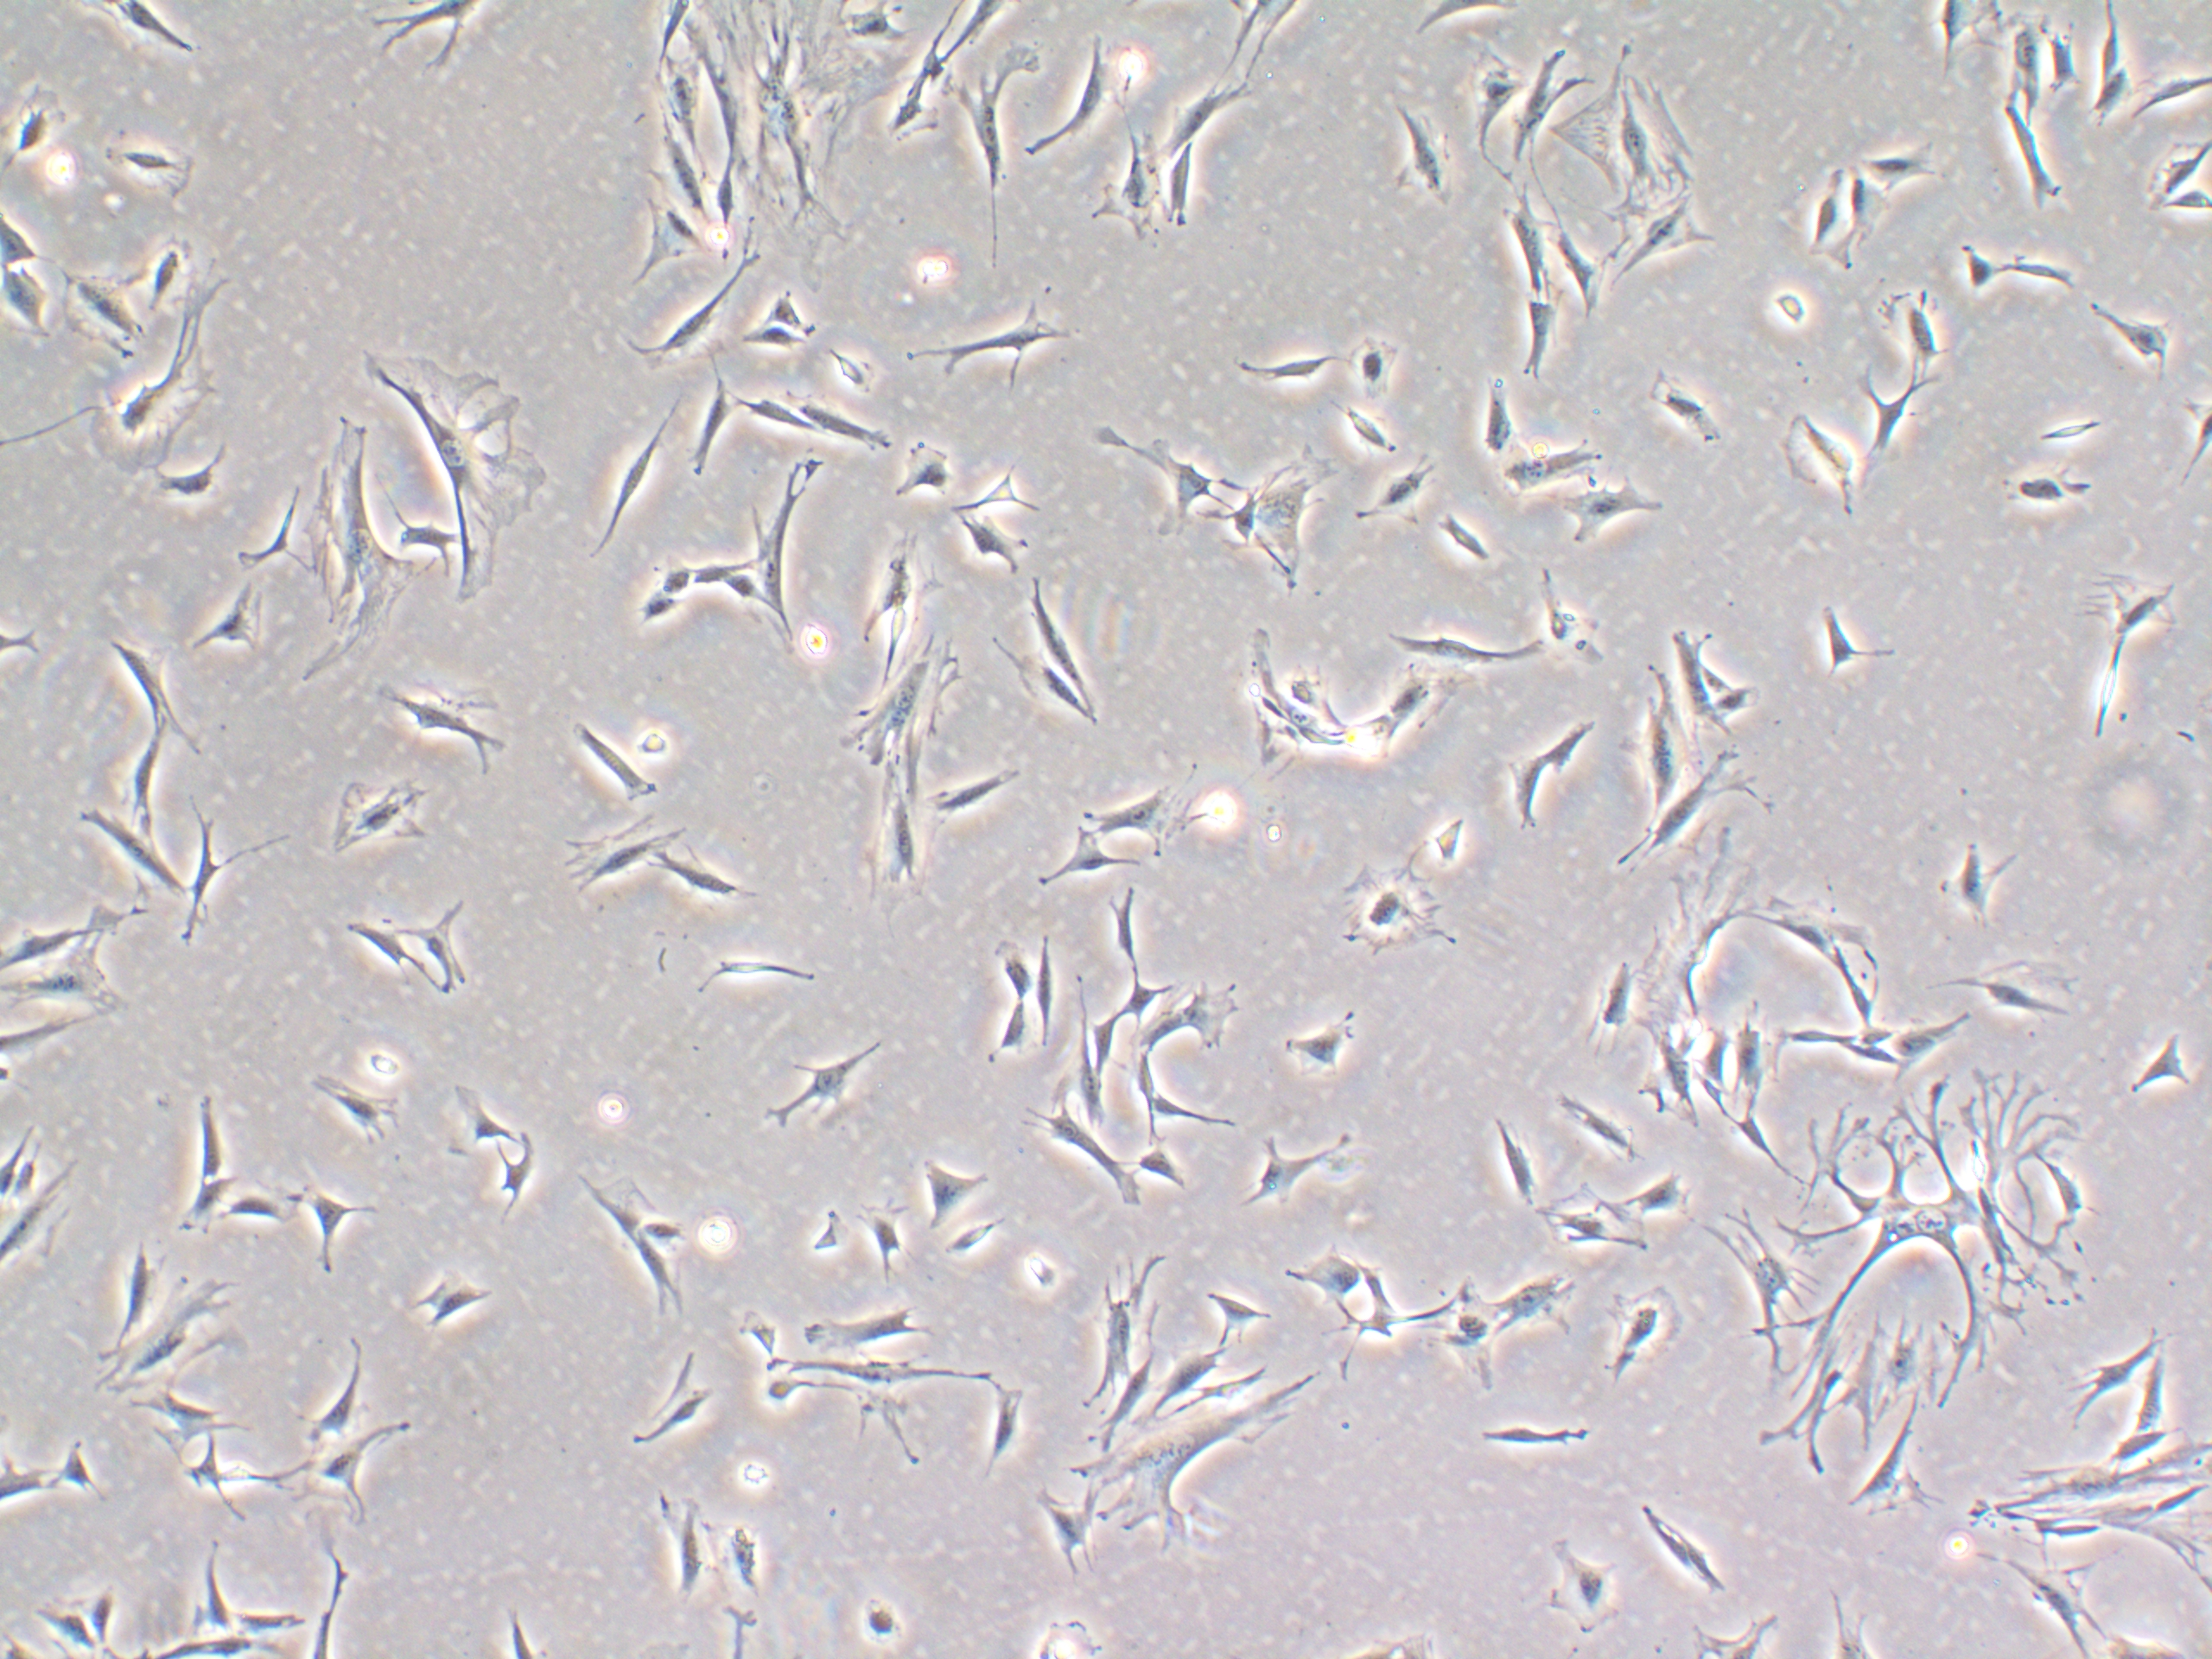Etc: (956, 453, 1052, 511), (944, 1211, 1026, 1270), (1421, 800, 1479, 877), (2033, 411, 2116, 453)
polygonal: (2083, 528, 2177, 758), (578, 1164, 697, 1330), (894, 295, 1082, 396), (631, 239, 768, 373), (754, 1021, 911, 1138), (958, 31, 1035, 270), (1083, 415, 1230, 537), (1921, 943, 2102, 1035), (587, 389, 683, 561), (1021, 23, 1139, 159), (75, 800, 207, 918), (1641, 749, 1775, 866), (1399, 1258, 1510, 1398), (606, 1340, 719, 1474), (380, 667, 521, 772), (1973, 1547, 2118, 1649), (277, 1415, 418, 1518), (1021, 1087, 1136, 1208), (1233, 1121, 1357, 1232), (556, 814, 693, 913), (554, 711, 678, 821), (852, 516, 960, 640), (2054, 1316, 2167, 1429), (742, 462, 813, 641), (1846, 1391, 1937, 1532), (984, 633, 1106, 737), (1632, 1492, 1749, 1596), (1606, 186, 1723, 291), (1527, 1528, 1642, 1633), (1618, 653, 1691, 817), (1089, 118, 1170, 265), (1984, 78, 2069, 218), (179, 805, 254, 964), (1029, 572, 1109, 720), (387, 889, 481, 1012), (1735, 892, 1885, 969), (1503, 28, 1576, 185), (1386, 617, 1554, 685), (1540, 174, 1613, 328), (1770, 411, 1872, 519), (1928, 826, 2038, 927), (1850, 369, 1947, 481), (1153, 59, 1264, 157), (1069, 769, 1200, 850), (131, 437, 260, 519), (1268, 997, 1372, 1096), (101, 622, 190, 737), (2116, 1023, 2203, 1140), (233, 467, 320, 584), (618, 183, 707, 296), (51, 258, 152, 357), (1475, 1406, 1609, 1480), (1444, 350, 1521, 477), (1775, 159, 1865, 265), (1547, 1077, 1655, 1166), (1491, 1263, 1590, 1359), (331, 904, 435, 995), (775, 387, 904, 460), (1641, 366, 1738, 462), (124, 228, 209, 336), (671, 850, 787, 929), (1379, 94, 1454, 216), (791, 1293, 932, 1358), (770, 1347, 996, 1387), (395, 1265, 512, 1342), (1554, 467, 1670, 542), (1534, 1185, 1656, 1256), (1865, 286, 1963, 375), (705, 1511, 791, 1612), (293, 1185, 376, 1286), (1487, 429, 1602, 502), (975, 1364, 1043, 1488), (1665, 626, 1735, 746), (1712, 1103, 1811, 1187), (650, 1488, 709, 1628), (643, 125, 719, 232), (1094, 1340, 1169, 1448), (690, 953, 852, 1002), (188, 575, 275, 666), (1888, 1007, 1996, 1079), (1216, 336, 1350, 394), (2090, 295, 2188, 373), (1578, 946, 1644, 1061), (439, 1084, 542, 1157), (906, 1157, 1001, 1236), (1796, 598, 1892, 676), (848, 1185, 927, 1281), (921, 763, 1026, 835), (695, 366, 754, 491), (1456, 44, 1521, 159), (153, 1406, 261, 1474), (108, 1234, 167, 1358), (2116, 1333, 2186, 1438), (303, 1340, 373, 1445), (482, 1133, 564, 1222), (380, 502, 477, 573), (1017, 918, 1064, 1065), (1278, 1243, 1369, 1317), (1998, 242, 2097, 310), (948, 493, 1031, 573), (1848, 132, 1954, 195), (1144, 1338, 1228, 1417), (1191, 1274, 1278, 1349), (1043, 826, 1141, 892), (1179, 972, 1259, 1053), (75, 1568, 150, 1654), (2118, 59, 2212, 127), (211, 1178, 303, 1246), (1620, 1169, 1714, 1236), (155, 1171, 240, 1243), (1487, 1108, 1547, 1211), (24, 1582, 103, 1659), (1493, 192, 1554, 289), (1512, 289, 1576, 380), (0, 908, 85, 974), (1681, 1018, 1740, 1112), (1651, 1012, 1696, 1134), (124, 725, 181, 821), (738, 385, 824, 448), (183, 1554, 249, 1635), (1327, 385, 1399, 457), (1101, 884, 1155, 978), (982, 993, 1040, 1077), (2071, 0, 2123, 91), (1848, 162, 1900, 251), (1757, 1016, 1865, 1058), (192, 1084, 233, 1190), (1123, 1046, 1184, 1117), (1064, 1037, 1113, 1126), (1541, 709, 1608, 774), (1104, 971, 1176, 1030), (49, 1429, 106, 1502), (1501, 744, 1543, 842), (1170, 143, 1211, 244), (1435, 502, 1496, 568), (2087, 1420, 2195, 1457), (2090, 64, 2142, 136), (1087, 1000, 1129, 1089), (1015, 1255, 1080, 1309), (1965, 223, 2003, 310), (1148, 1103, 1233, 1141), (235, 1598, 320, 1636), (759, 282, 815, 336), (984, 934, 1038, 990), (629, 577, 688, 627), (1352, 1260, 1413, 1307), (1834, 972, 1883, 1025), (738, 322, 803, 359), (655, 547, 691, 594)
small-round: (791, 1195, 867, 1270), (838, 1588, 909, 1647), (1764, 275, 1832, 336), (1343, 336, 1406, 396), (631, 721, 700, 770), (817, 347, 885, 396), (1136, 1143, 1191, 1199), (355, 1033, 409, 1084)
spread: (665, 7, 894, 277), (352, 340, 563, 612), (1076, 1354, 1306, 1575), (1625, 814, 1782, 1019), (77, 315, 228, 481), (1562, 30, 1705, 193), (831, 633, 981, 774), (96, 1267, 247, 1398), (1228, 446, 1336, 591), (1332, 845, 1460, 965), (317, 772, 442, 863), (78, 125, 197, 213)
